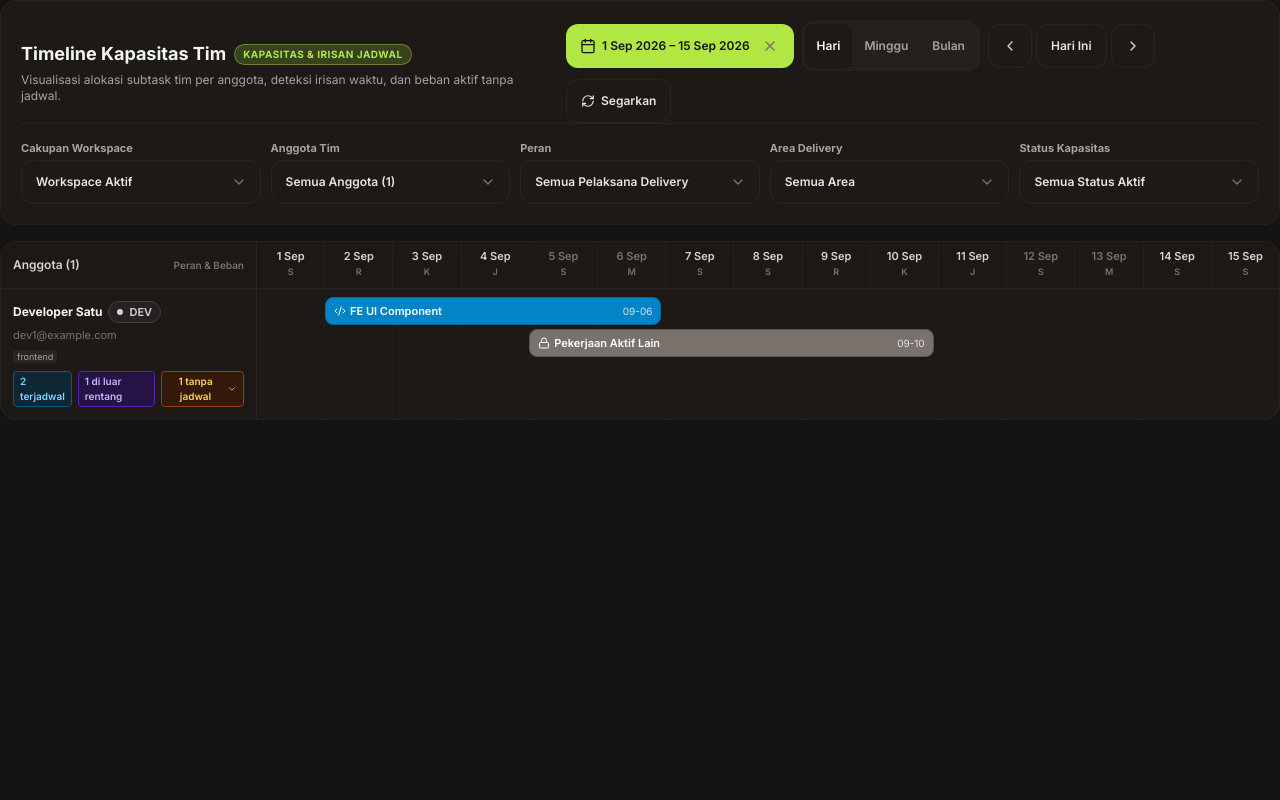
Scenario: TeamCapacityTimeline Component › displays redacted alert when clicking a redacted subtask bar
Click the text "Pekerjaan Aktif Lain": click(607, 343) [554,335,660,351]
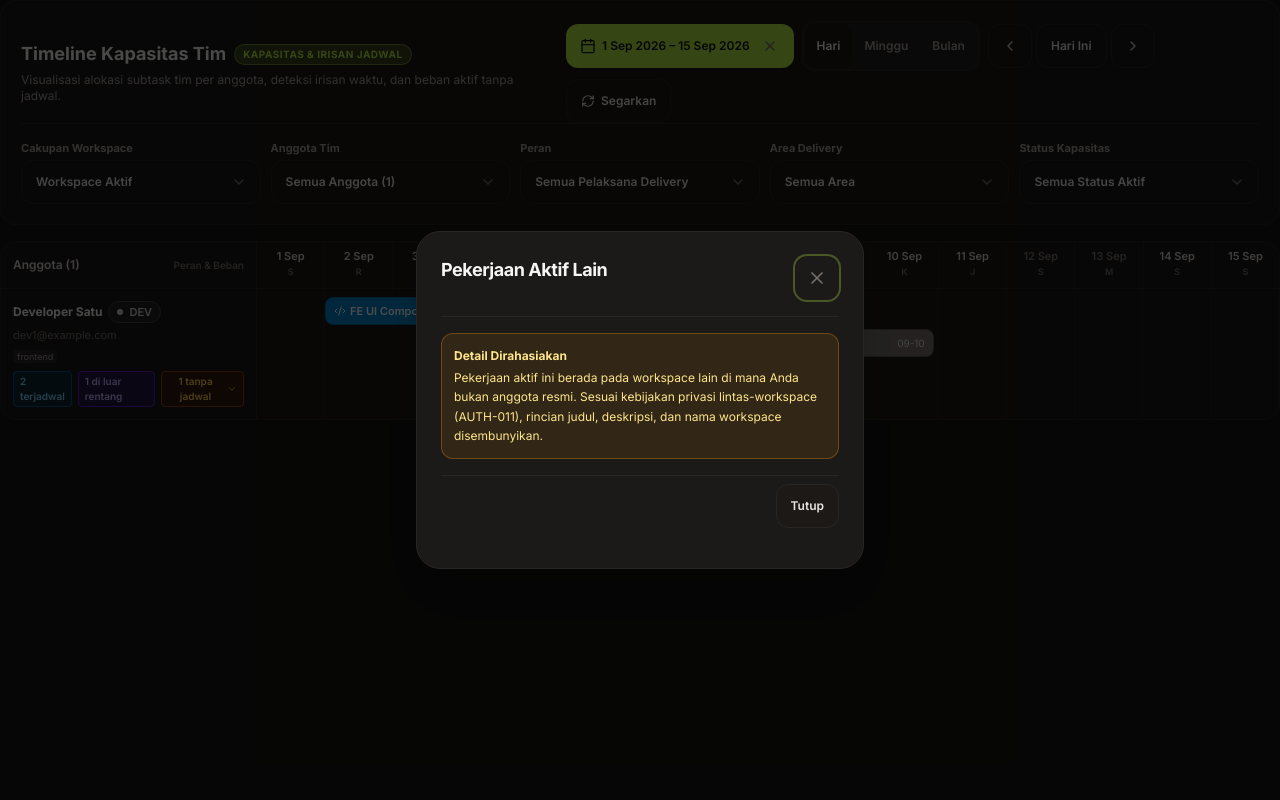
Expected: the text "Sesuai kebijakan privasi lintas-workspace (AUTH-011)" is shown, [454,370,817,443]
